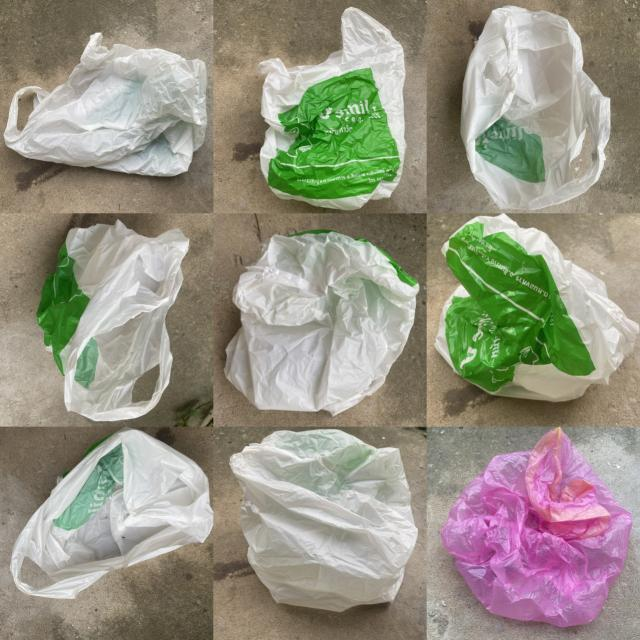Single-layer Plastic: (435, 214, 639, 401), (441, 428, 631, 628), (225, 231, 419, 415), (10, 428, 212, 599), (230, 429, 418, 611), (36, 220, 189, 421), (461, 6, 610, 209), (258, 8, 406, 210), (4, 32, 208, 176)
